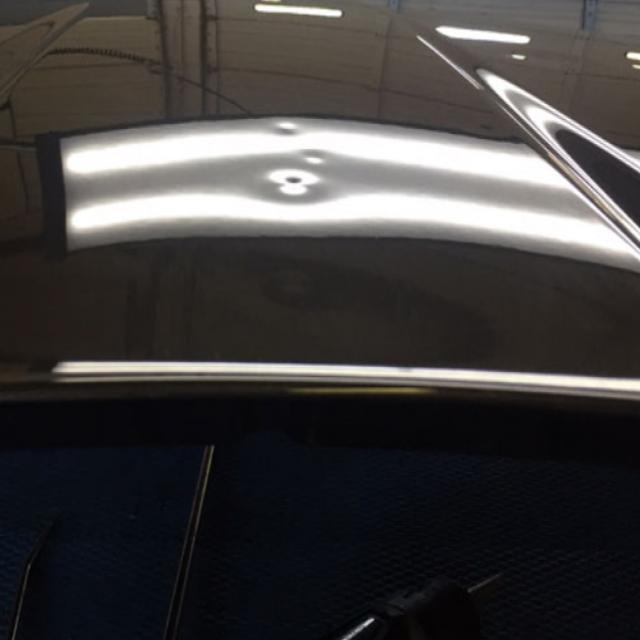dents: (262, 157, 328, 225), (266, 111, 305, 146)
